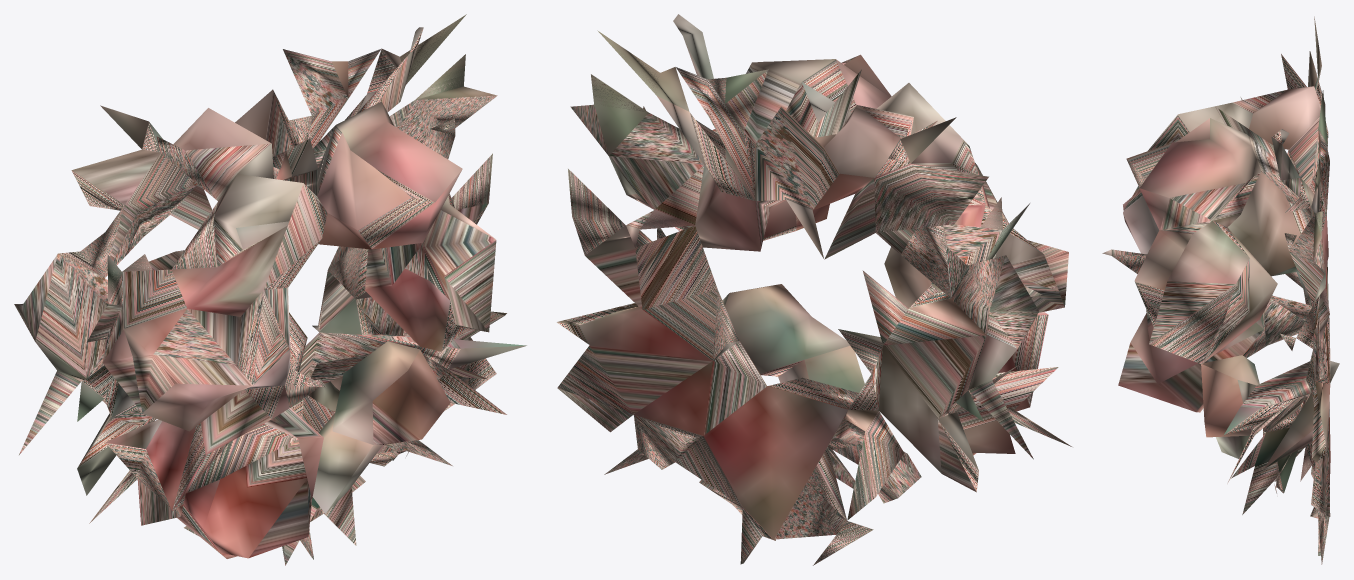
The picture shows the model from 3 angles, left to right: view 1: azimuth 30°, elevation 25°; view 2: azimuth 150°, elevation 25°; view 3: azimuth 270°, elevation 25°; orthographic projection. The views are drawn at different scales.
Parts seen in each view (by area): view 1: Rose-Frame-9-33; view 2: Rose-Frame-9-33; view 3: Rose-Frame-9-33.
Boxes of the visible parts, box(x1,y1,x2,y2) form: Rose-Frame-9-33: box(14, 14, 526, 565); Rose-Frame-9-33: box(557, 14, 1071, 565); Rose-Frame-9-33: box(1102, 16, 1339, 564).
Size of the model in its own units: 0.2325 by 0.2369 by 0.1099.
1 material, 1 textured.
